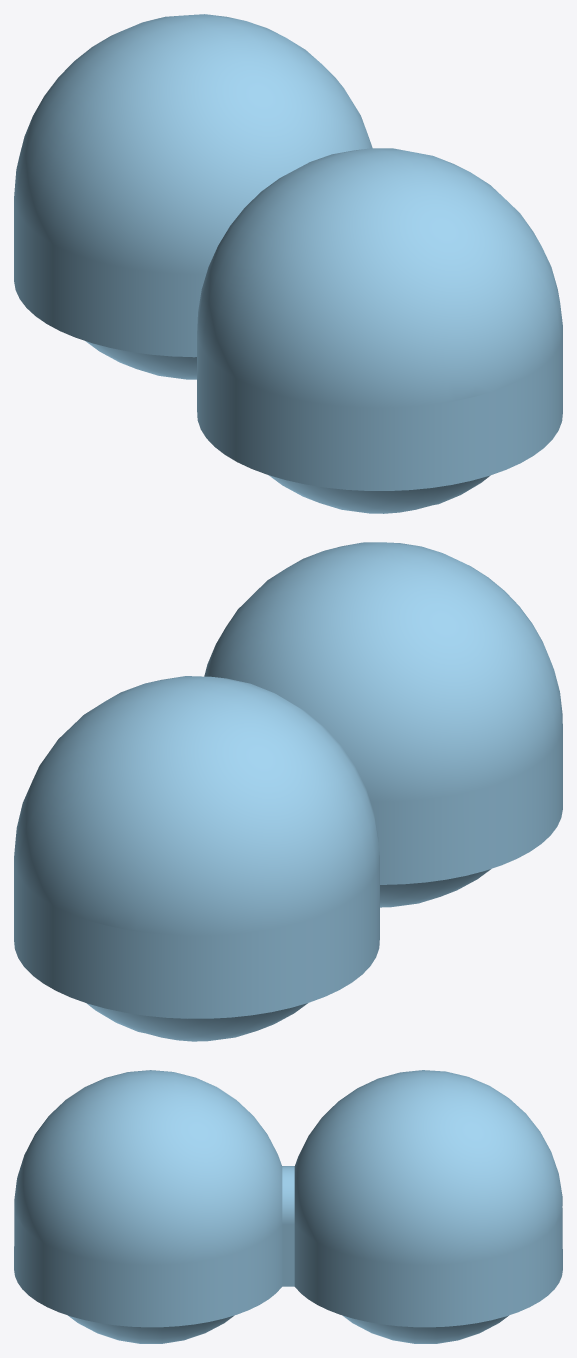
Rendered from drone_v1_model.dae.
3 views of the same model, one above another, from view 1: azimuth 30°, elevation 25°; view 2: azimuth 150°, elevation 25°; view 3: azimuth 270°, elevation 25° (orthographic). The views are drawn at different scales.
Visible parts, largest first — view 1: ID2; view 2: ID2; view 3: ID2.
Boxes of the visible parts, bbox=[...] form: ID2: bbox=[14, 14, 562, 513]; ID2: bbox=[14, 542, 562, 1041]; ID2: bbox=[14, 1070, 562, 1343].
Bounding box in the file's own units: 0.0999 × 0.2 × 0.0986.
